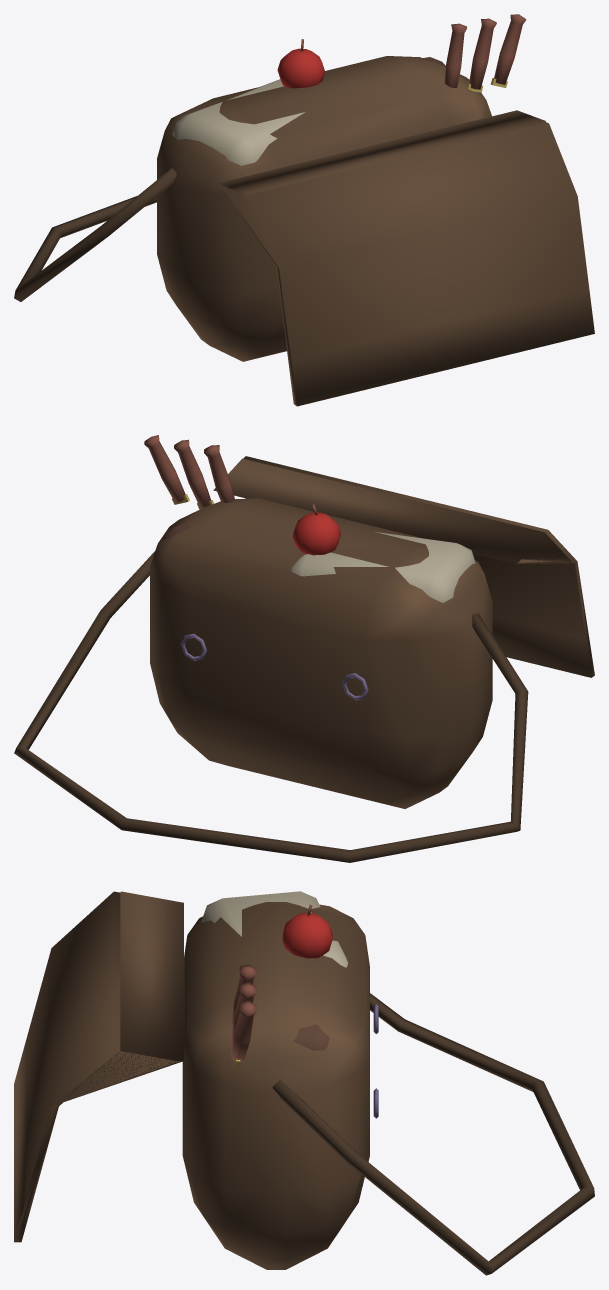
Rendered from alis_satchel.glb.
The picture shows the model from 3 angles, top to bottom: view 1: azimuth 30°, elevation 25°; view 2: azimuth 150°, elevation 25°; view 3: azimuth 270°, elevation 25°; orthographic projection. The views are drawn at different scales.
Parts seen in each view (by area): view 1: alis_satchel; view 2: alis_satchel; view 3: alis_satchel.
Boxes of the visible parts, <box> form: alis_satchel: <box>14,14,594,406</box>; alis_satchel: <box>14,435,594,862</box>; alis_satchel: <box>14,891,594,1275</box>.
Size of what is drawn, in the model's own units: 0.921 by 0.565 by 0.93.
